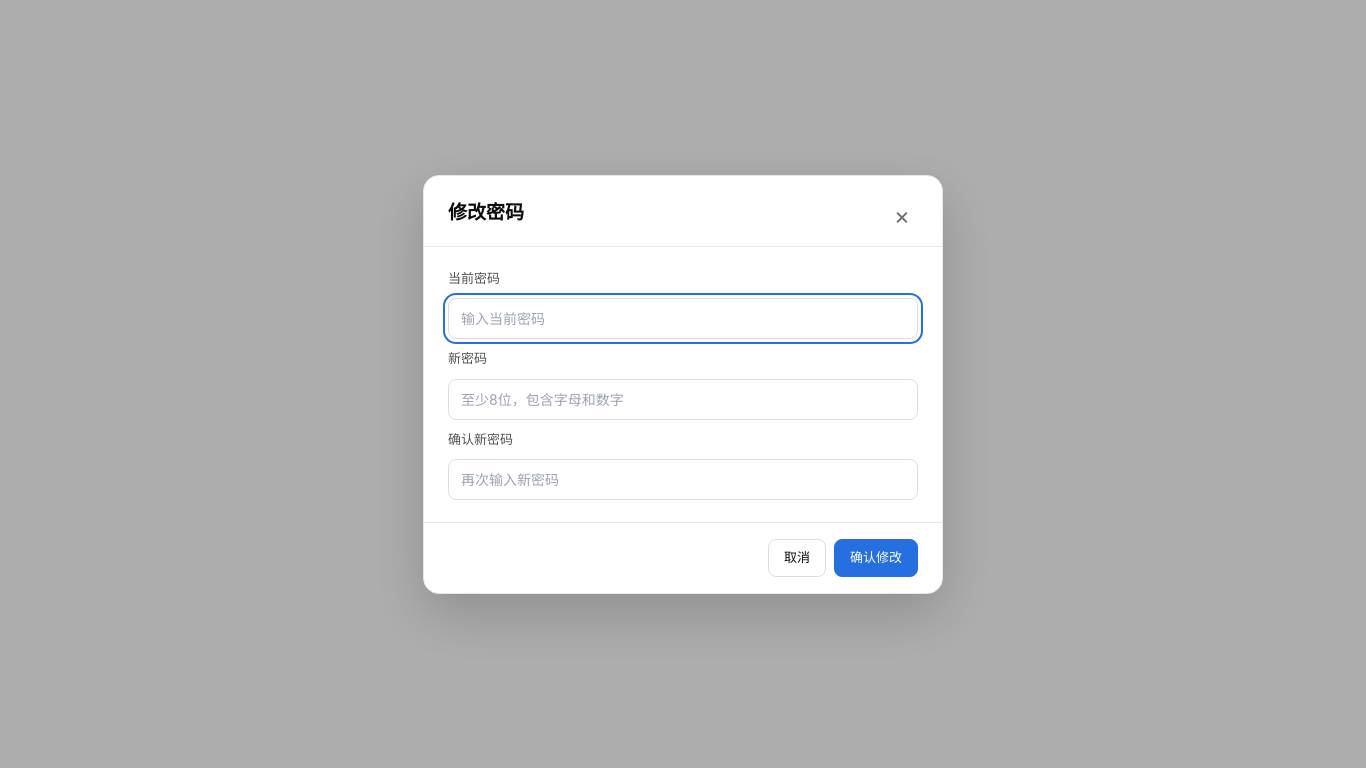
共享账户表单 › 密码失败不清输入或登出，成功后按原延时登出且不持久化密码
In the password field labelled "当前密码": (683, 318) [448,298,918,339], type "current123"
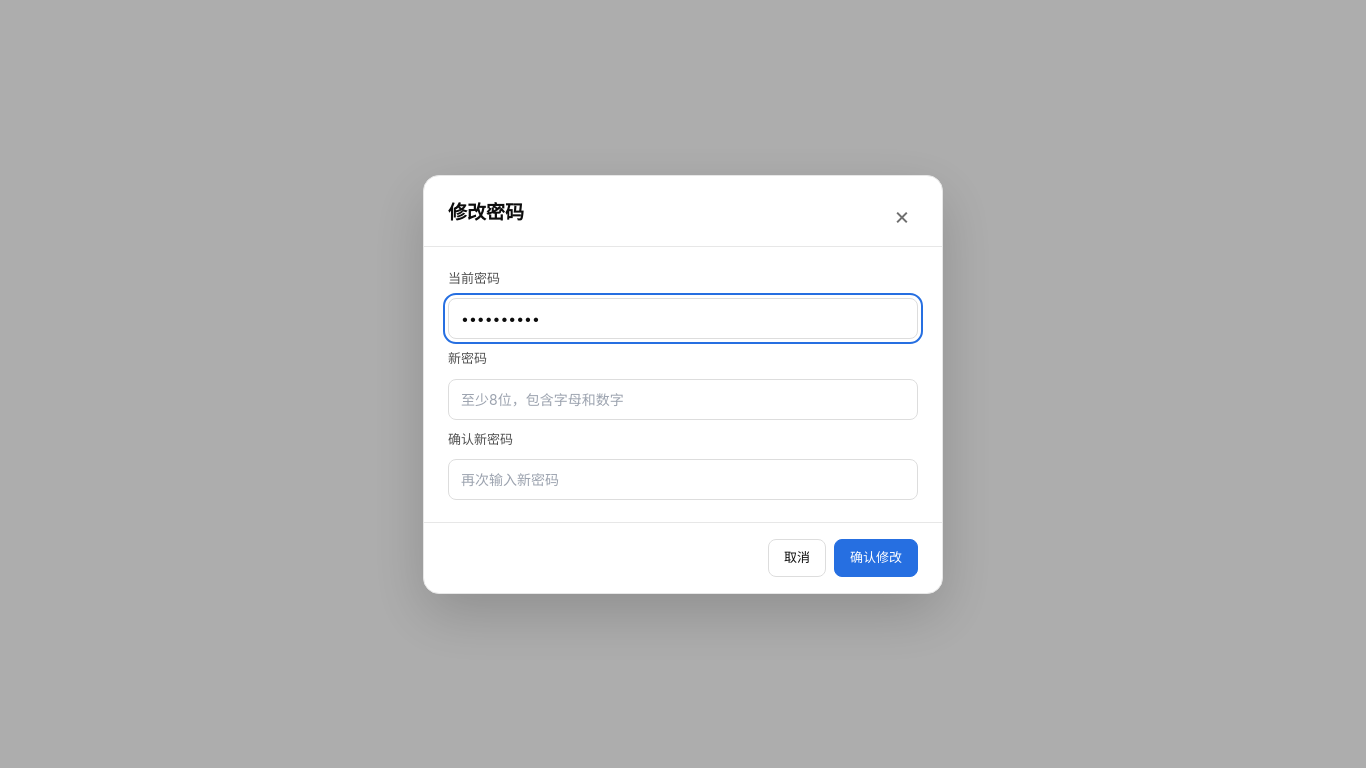
In the password field labelled "新密码": (683, 399) [448,378,918,420], type "newpass123"
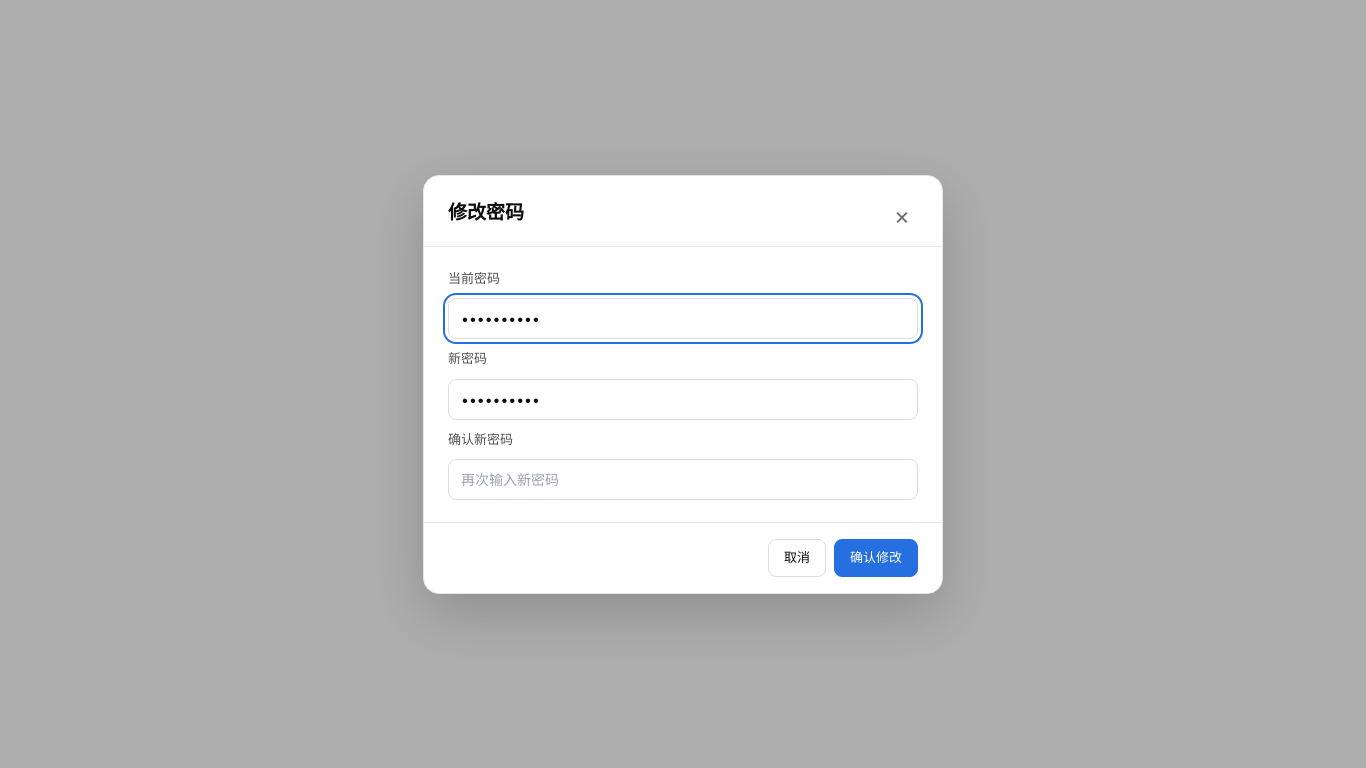
In the password field labelled "确认新密码": (683, 480) [448,459,918,500], type "newpass123"
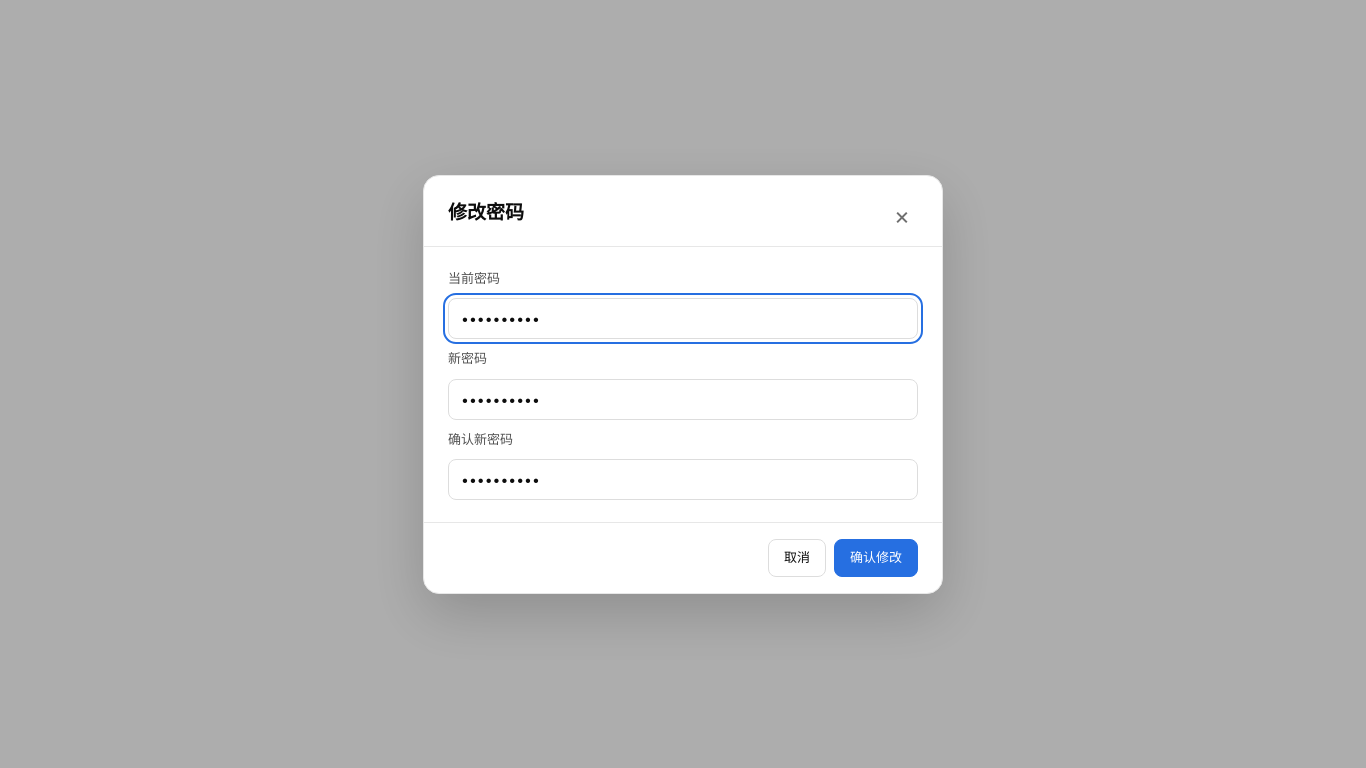
Submit the form, box [424,246,942,592]
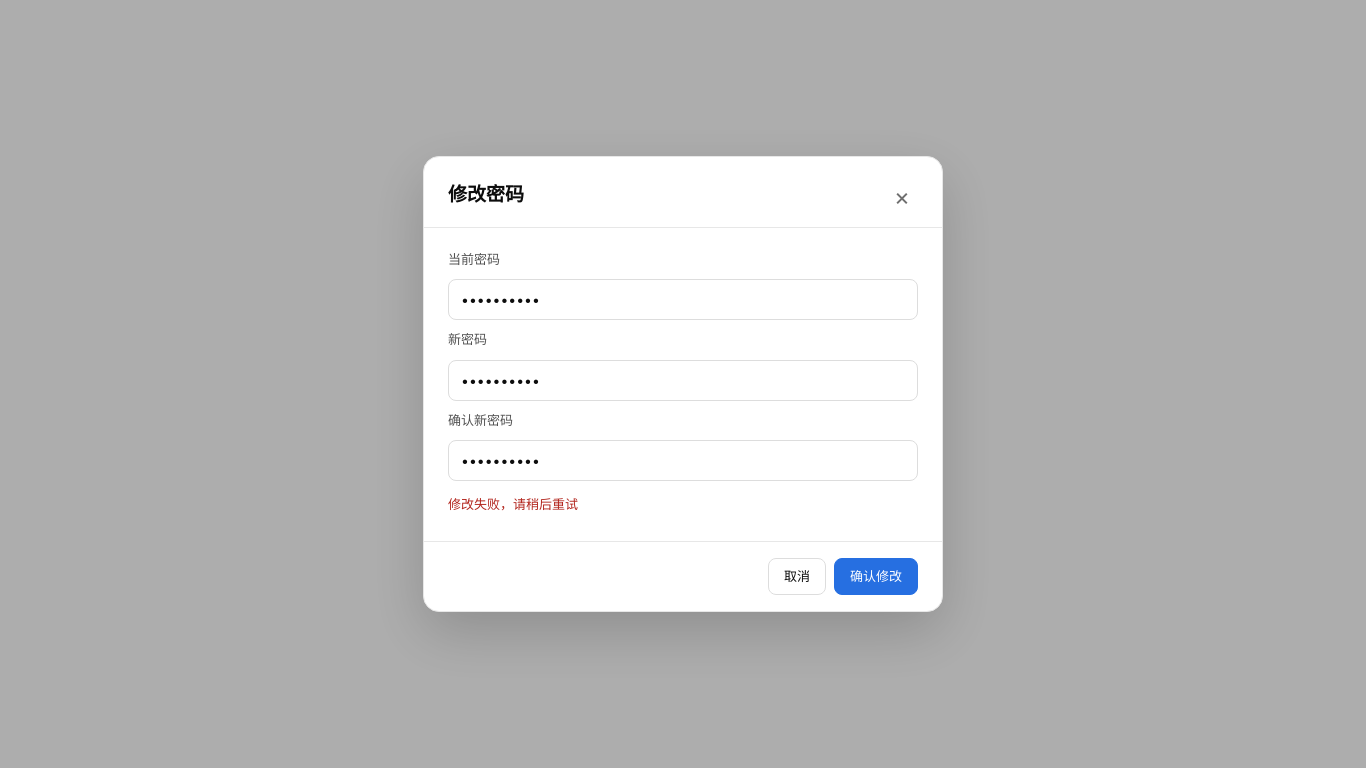
Submit the form, box [424,228,942,611]
Wait 1500 ms
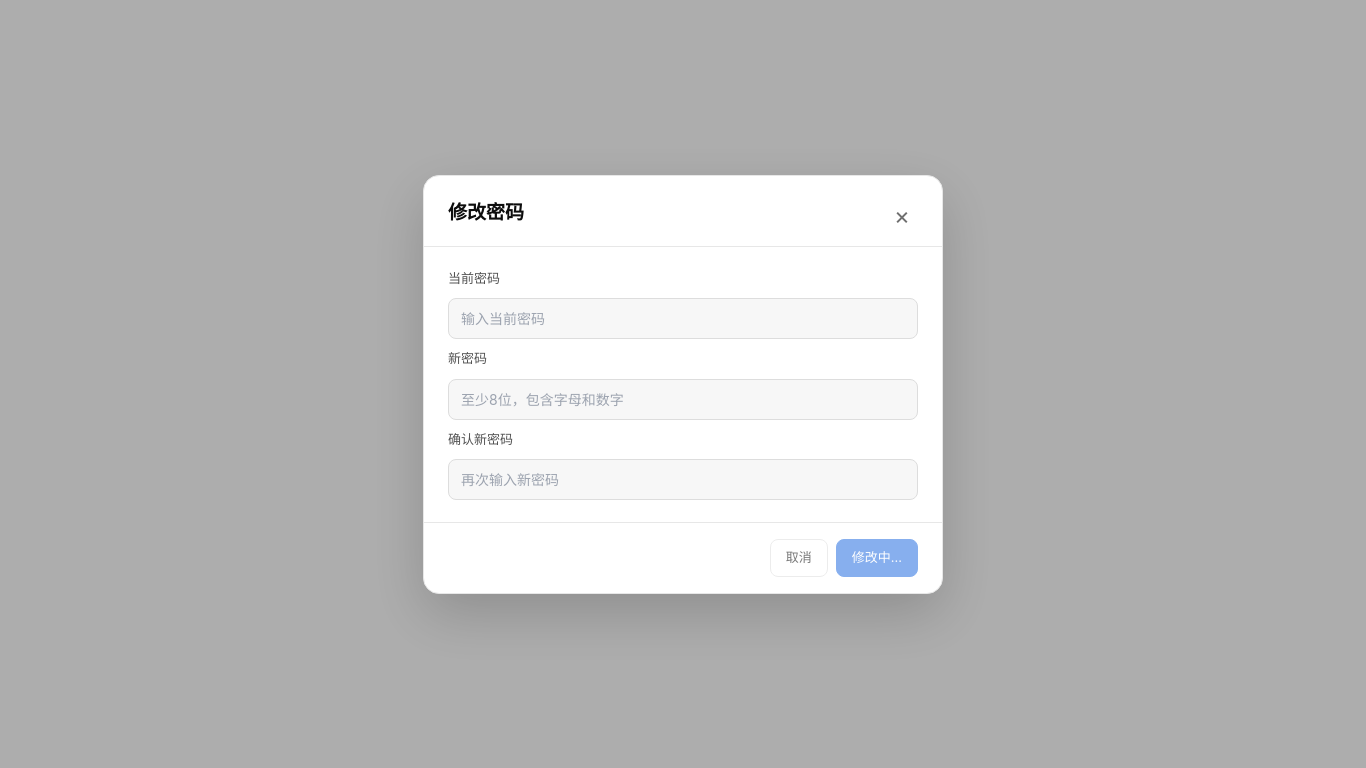
Now the password field labelled "新密码" is empty, box [448,378,918,420]
Now the button named "关闭" is disabled, box [886,198,918,230]
